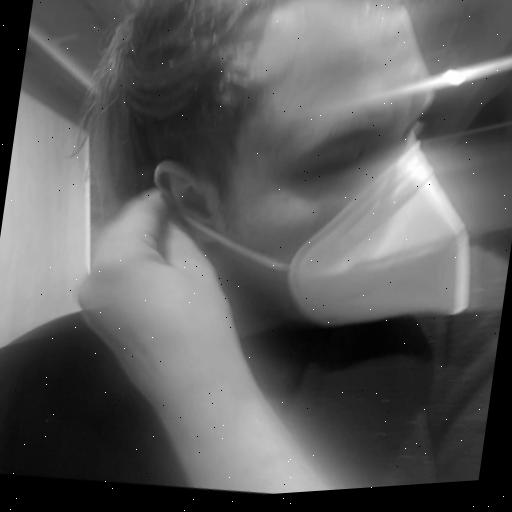mask: (74, 0, 512, 396)
